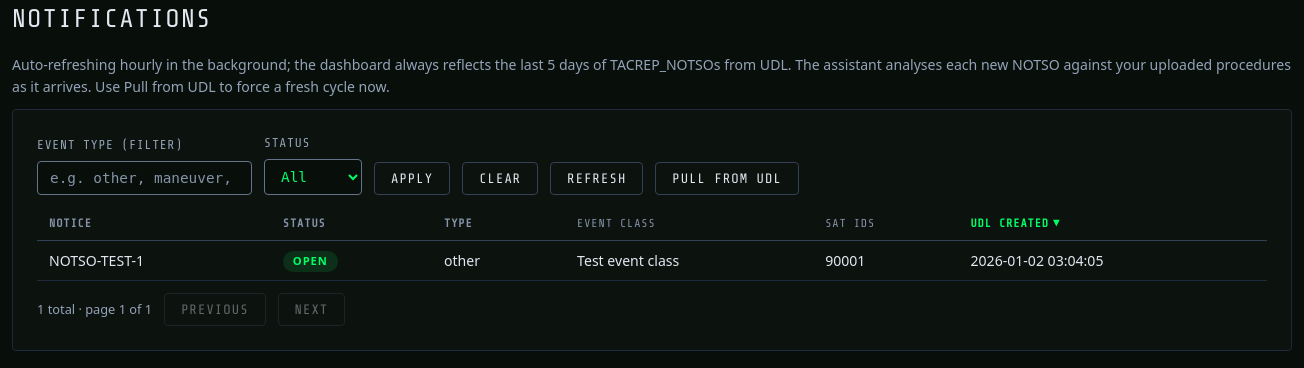
it: the notifications page › opens a notice when its row is clicked
Click the text "NOTSO-TEST-1" at (154, 260), box [37,241,271,280]
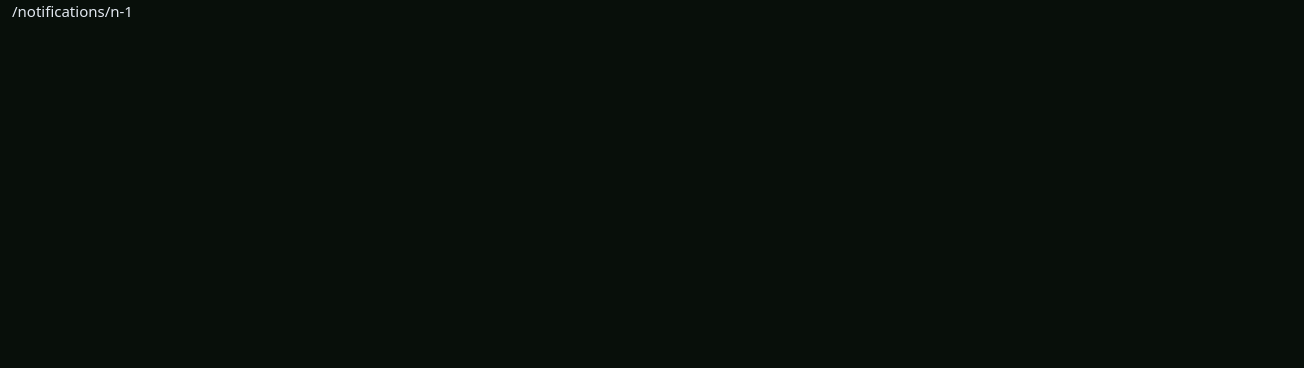
Now the text with test id "landed" reads "/notifications/n-1", box [12,1,133,21]
